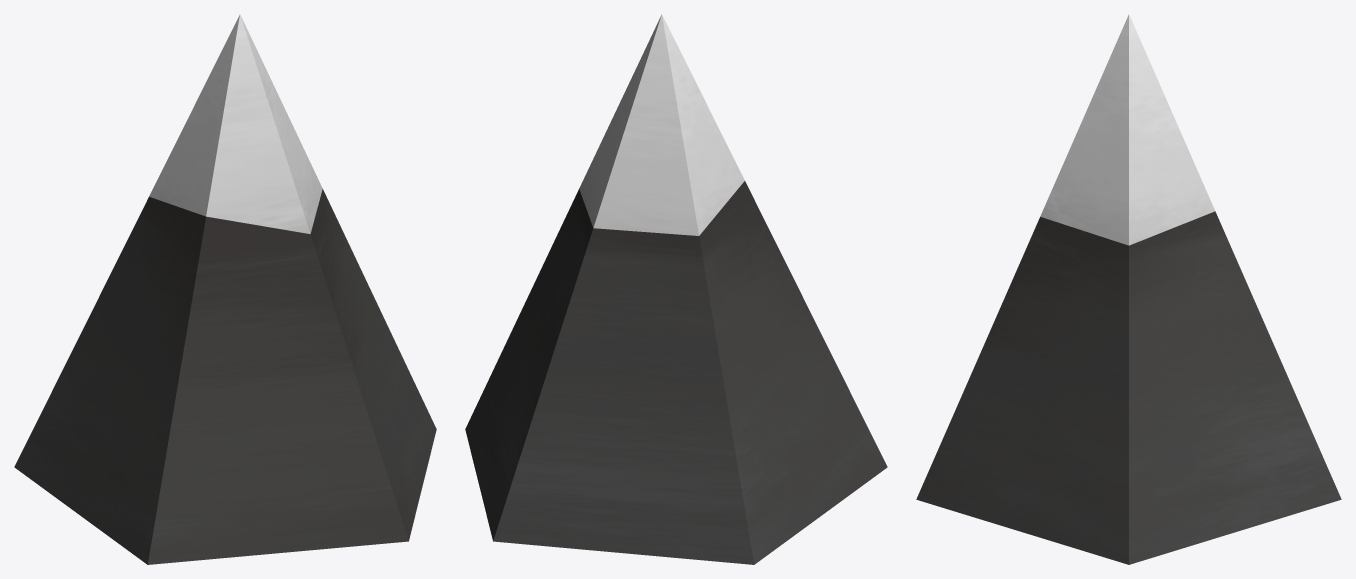
Rendered from mountain1.fbx.
3 views of the same model, side by side, from view 1: azimuth 30°, elevation 25°; view 2: azimuth 150°, elevation 25°; view 3: azimuth 270°, elevation 25° (orthographic).
Parts seen in each view (by area): view 1: pPyramid2; view 2: pPyramid2; view 3: pPyramid2.
Boxes of the visible parts, box(x1,y1,x2,y2) form: pPyramid2: box(14, 14, 436, 564); pPyramid2: box(465, 14, 887, 564); pPyramid2: box(916, 14, 1341, 564).
Bounding box in the file's own units: 1.54 × 1.91 × 1.62.
Materials: 1 (1 with a texture image).
